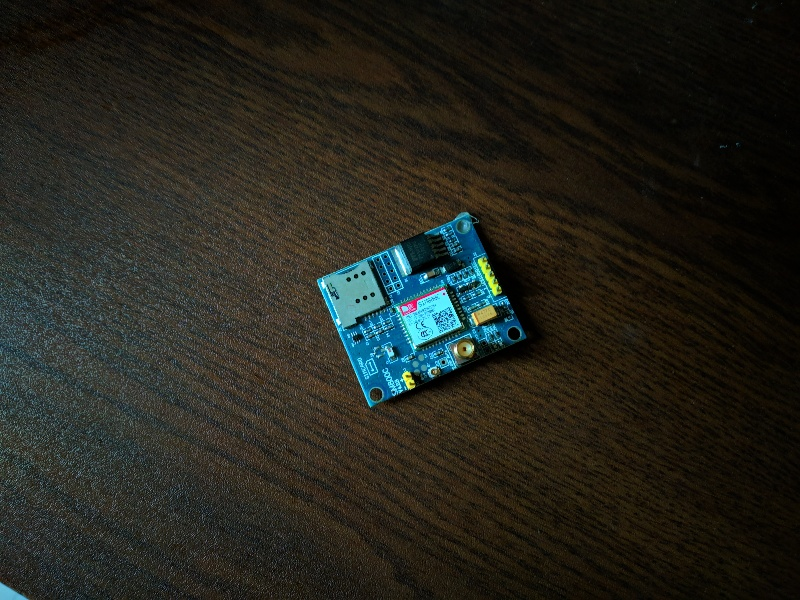SIM800: (307, 207, 534, 417)
